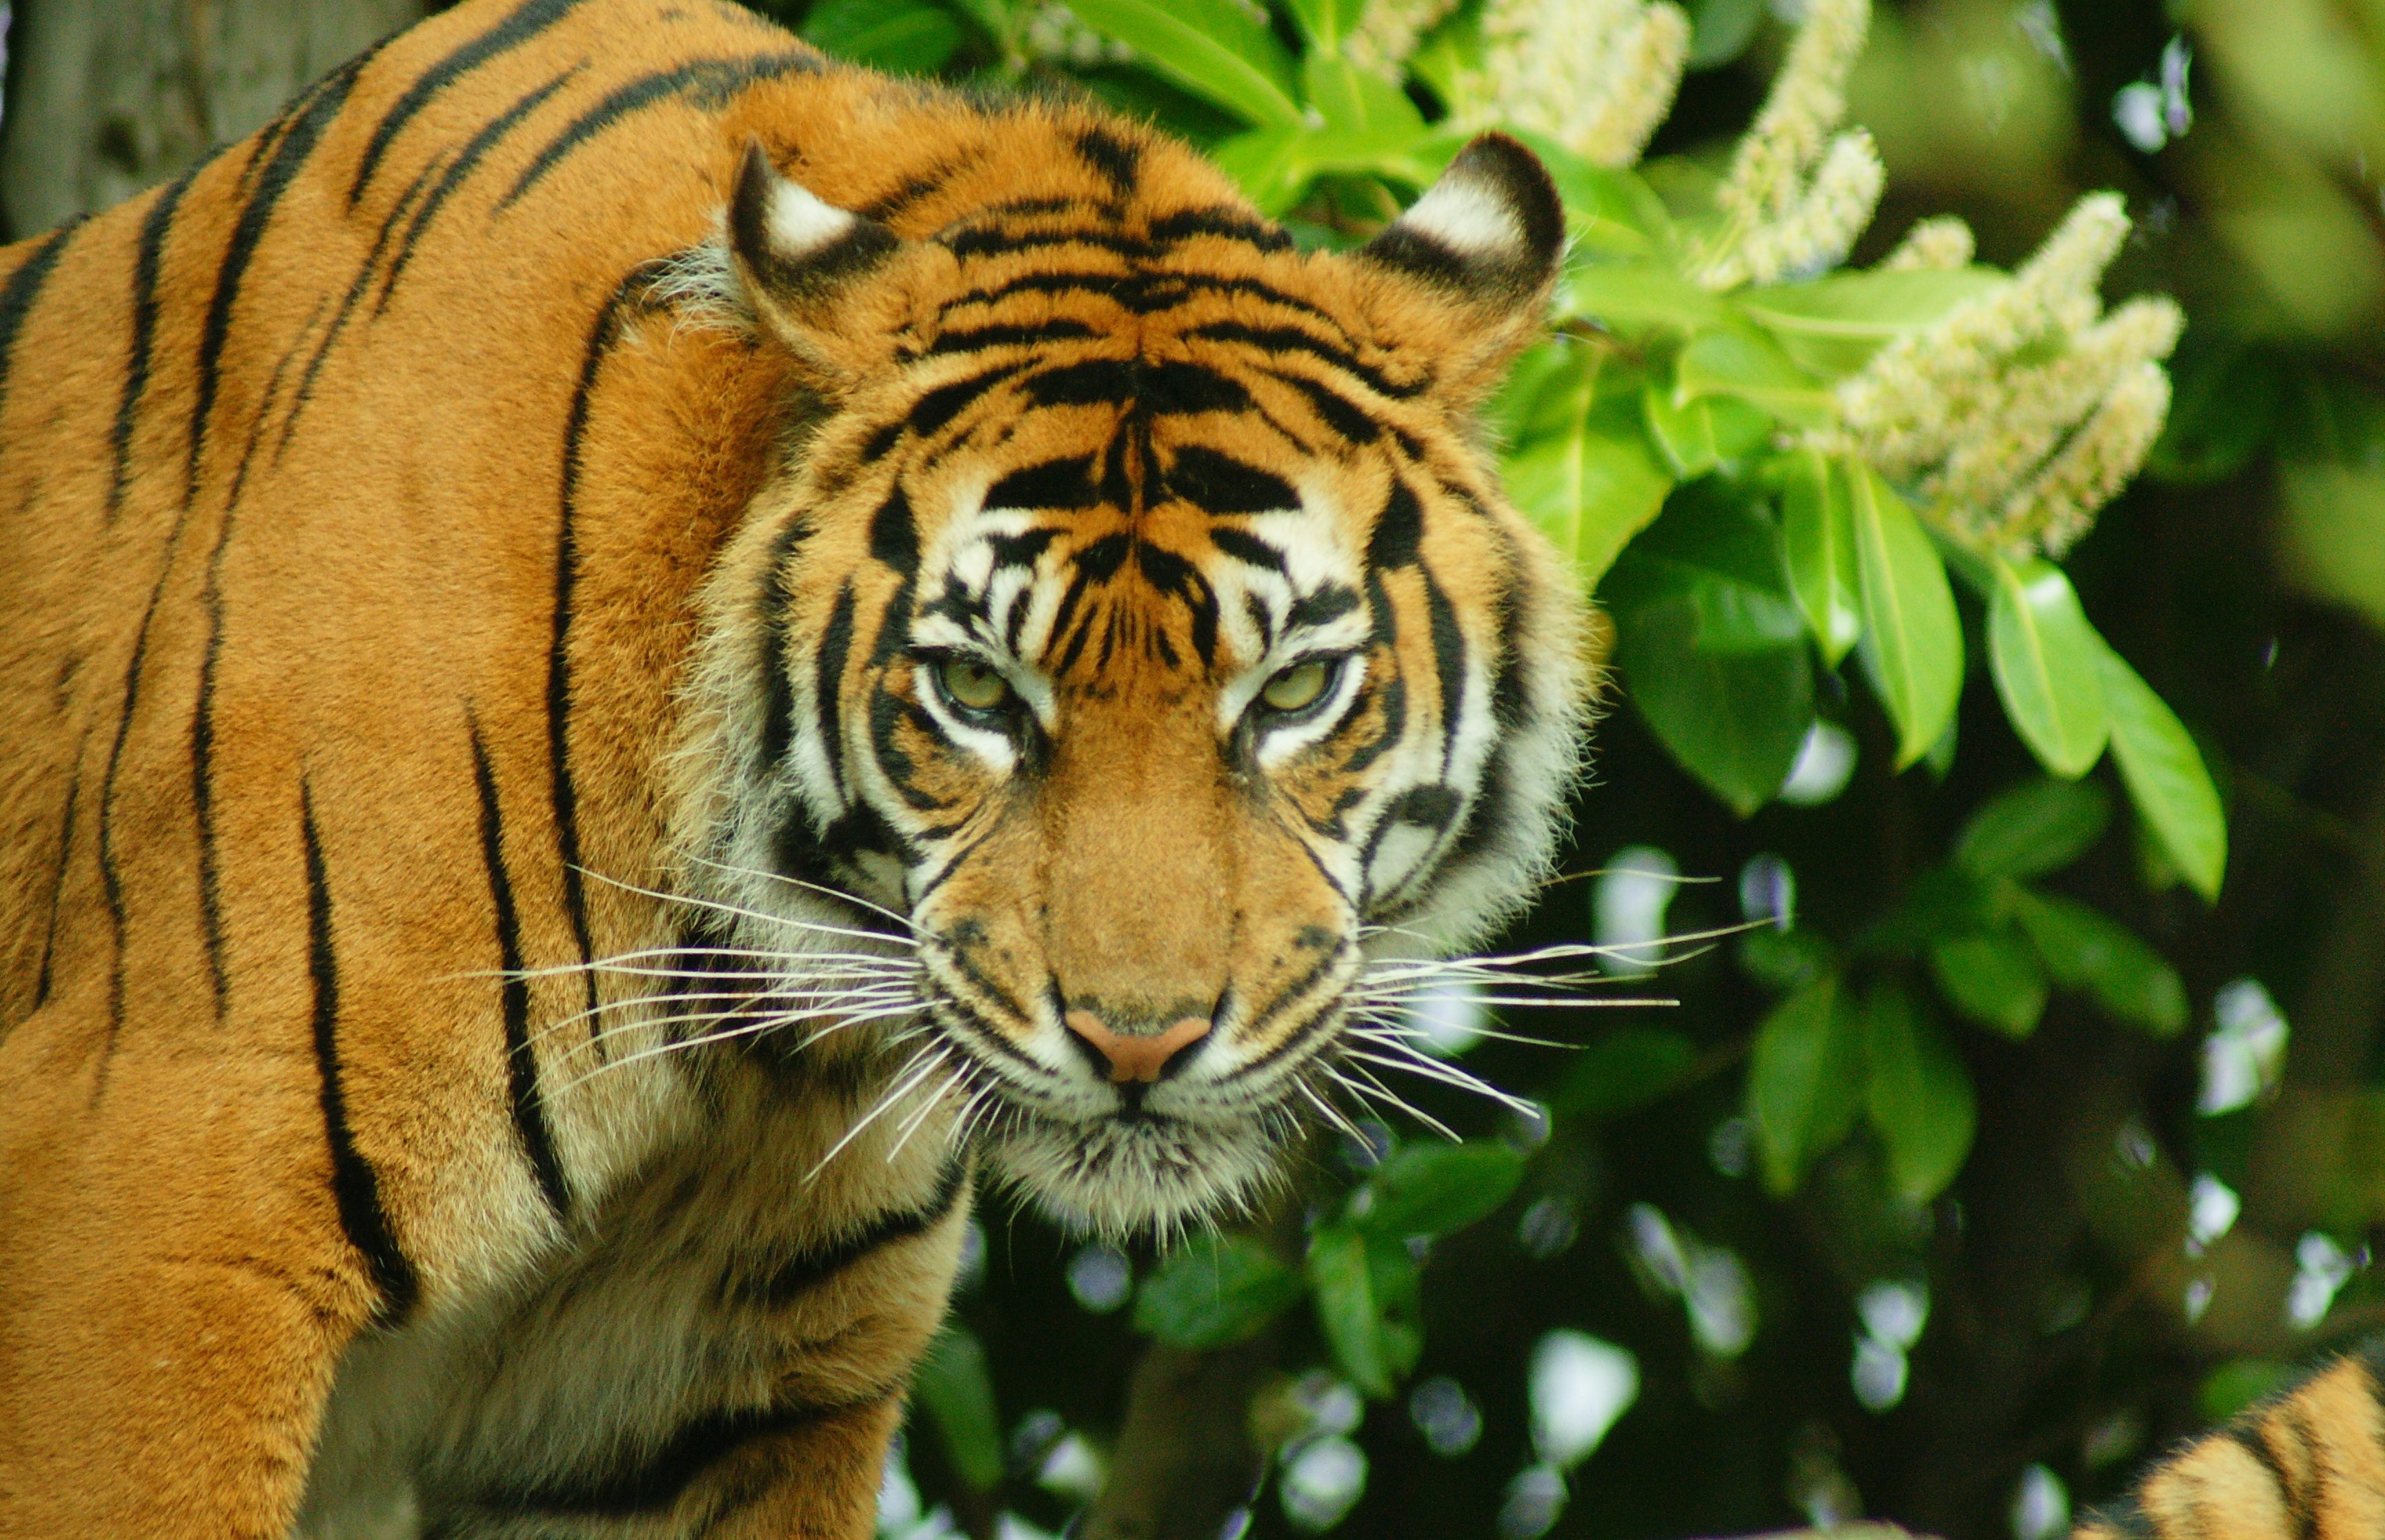tiger: (42, 0, 1634, 1530)
